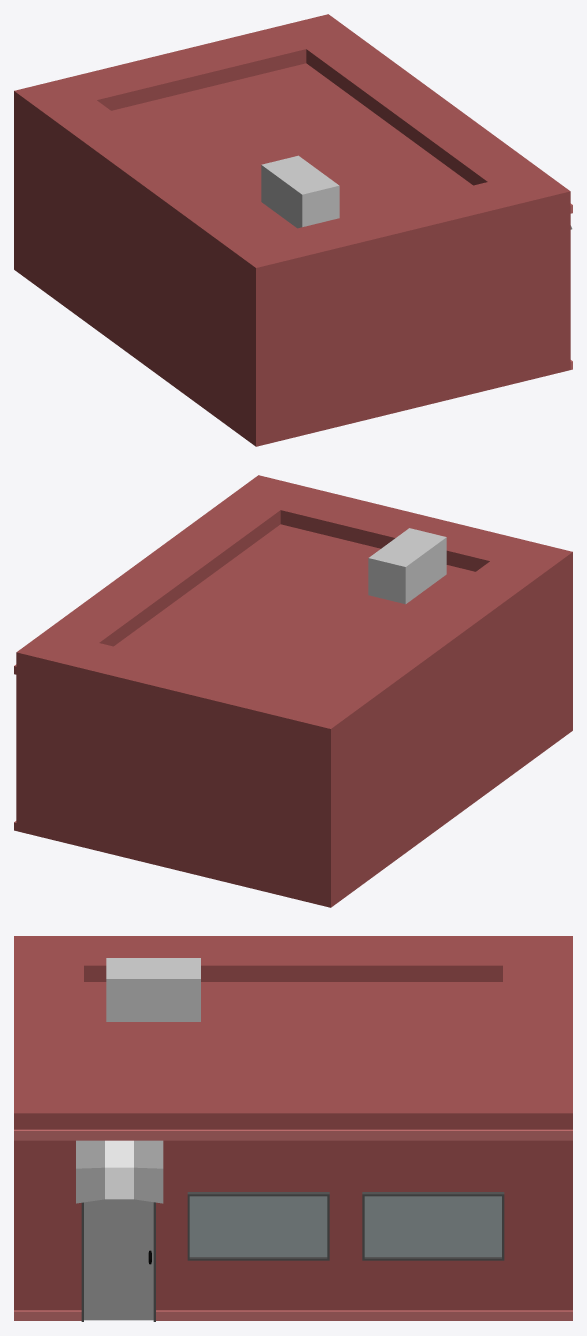
File: Building_5.fbx
3 views of the same model, one above another, from view 1: azimuth 30°, elevation 25°; view 2: azimuth 150°, elevation 25°; view 3: azimuth 270°, elevation 25° (orthographic). The views are drawn at different scales.
Visible parts, largest first — view 1: polySurface1; view 2: polySurface1; view 3: polySurface1.
Boxes of the visible parts, x1,y1,x2,y2 form: polySurface1: [14, 14, 572, 446]; polySurface1: [14, 475, 572, 907]; polySurface1: [14, 936, 572, 1321].
Bounding box in the file's own units: 8.18 × 4.6 × 10.
